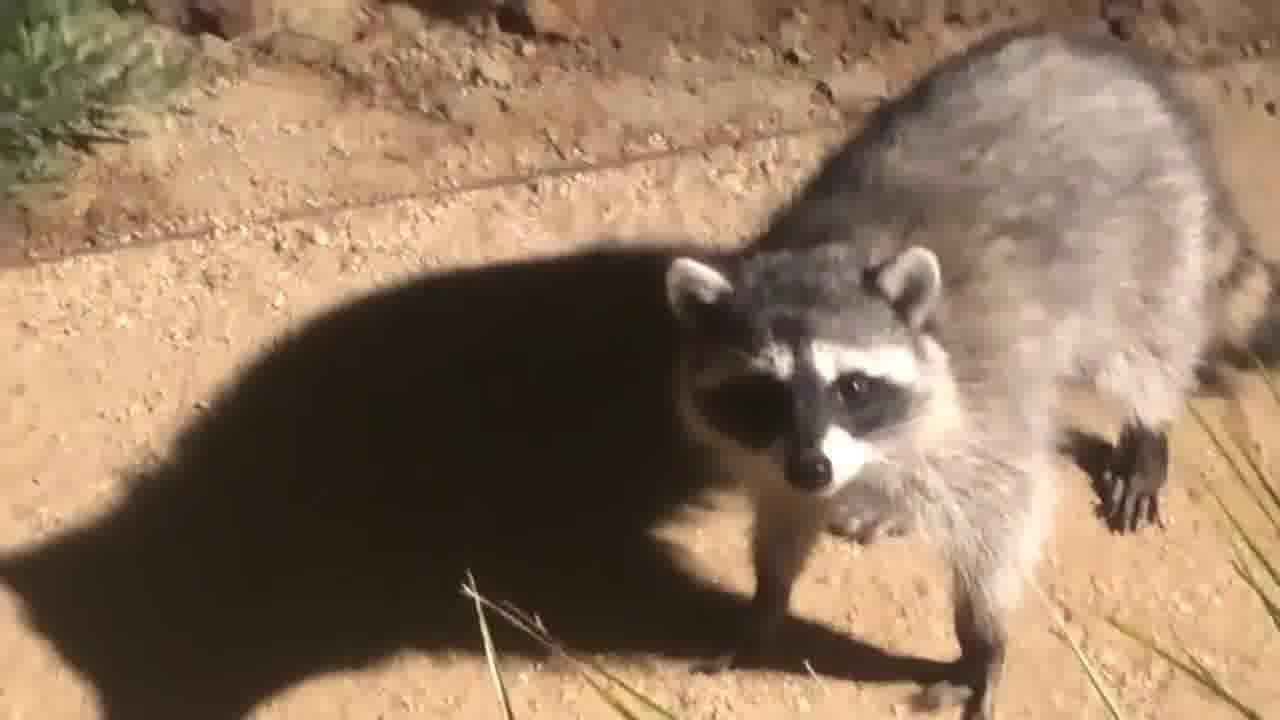raccoon: (652, 11, 1280, 720)
